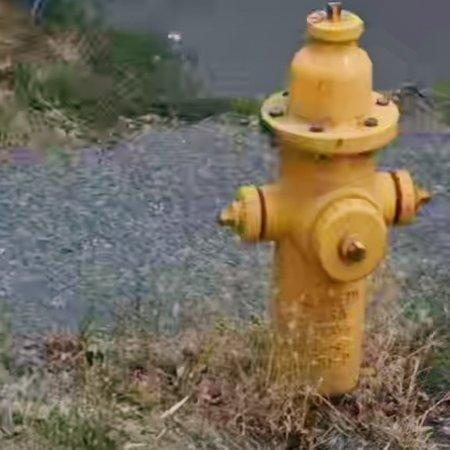a fire hydrant: (221, 3, 430, 395)
